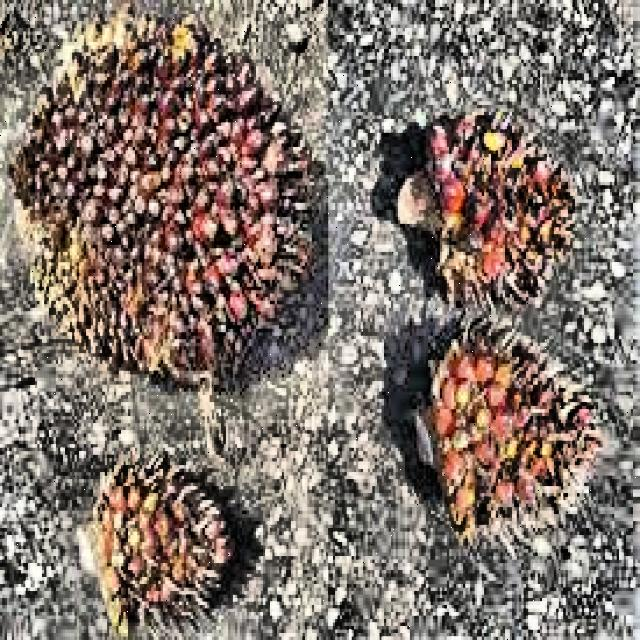FFB: (13, 24, 316, 368), (413, 322, 597, 538), (413, 120, 574, 307), (96, 469, 249, 615)
